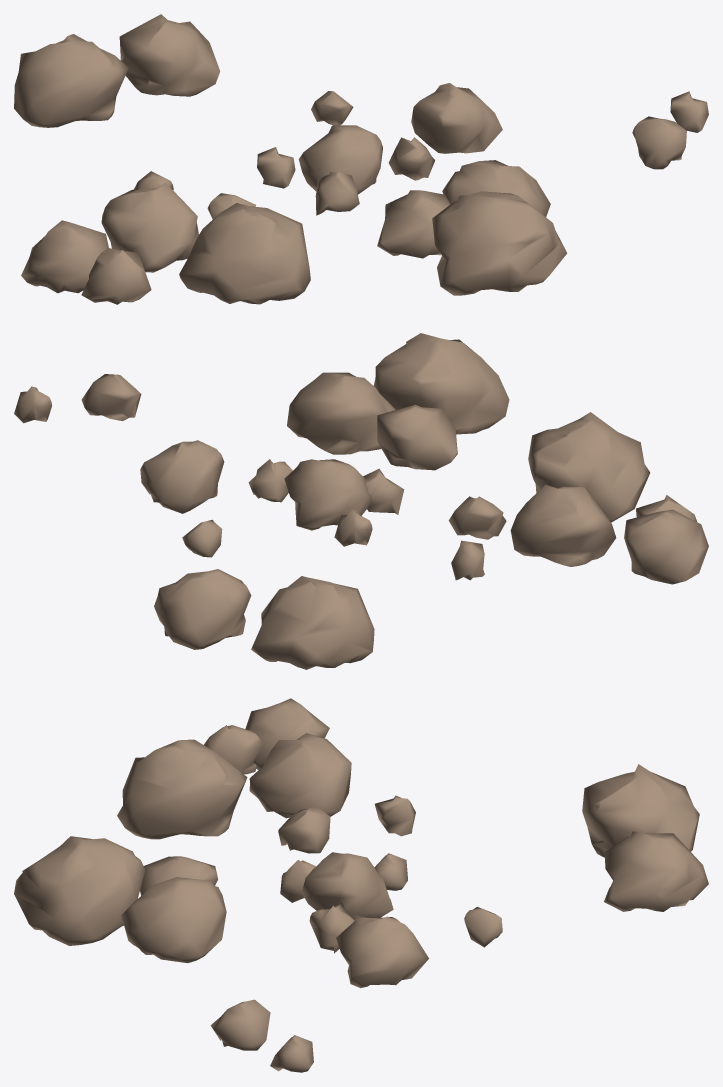
Rendered from Stones.fbx.
3 renders of one model, top to bottom at view 1: azimuth 30°, elevation 25°; view 2: azimuth 150°, elevation 25°; view 3: azimuth 270°, elevation 25°, orthographic.
Visible parts, largest first — view 1: Stones; view 2: Stones; view 3: Stones.
Part boxes in pixels (bbox=[...]): Stones: bbox=[14, 14, 708, 304]; Stones: bbox=[14, 333, 708, 669]; Stones: bbox=[14, 698, 708, 1072].
Bounding box in the file's own units: 5.71 × 0.6812 × 4.98.
